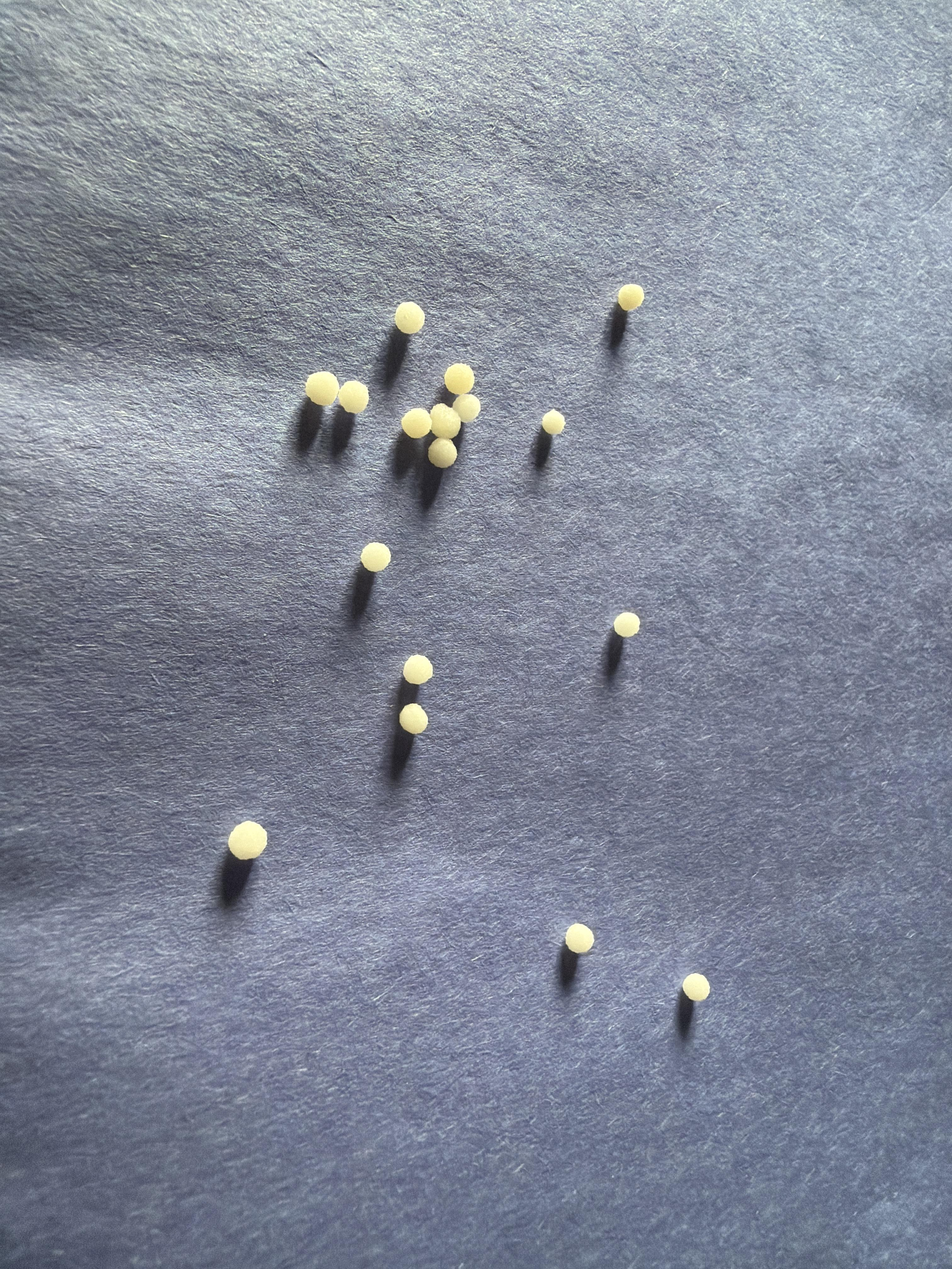pill: (228, 821, 267, 860), (305, 371, 339, 406), (430, 403, 460, 439), (394, 301, 425, 335), (338, 380, 369, 414), (444, 363, 474, 395), (399, 702, 428, 735), (360, 542, 391, 572), (403, 654, 433, 685), (428, 437, 457, 469), (401, 408, 431, 438), (565, 923, 594, 954), (682, 973, 710, 1002), (453, 393, 480, 423), (613, 611, 640, 638), (618, 284, 644, 311), (541, 411, 565, 435)
